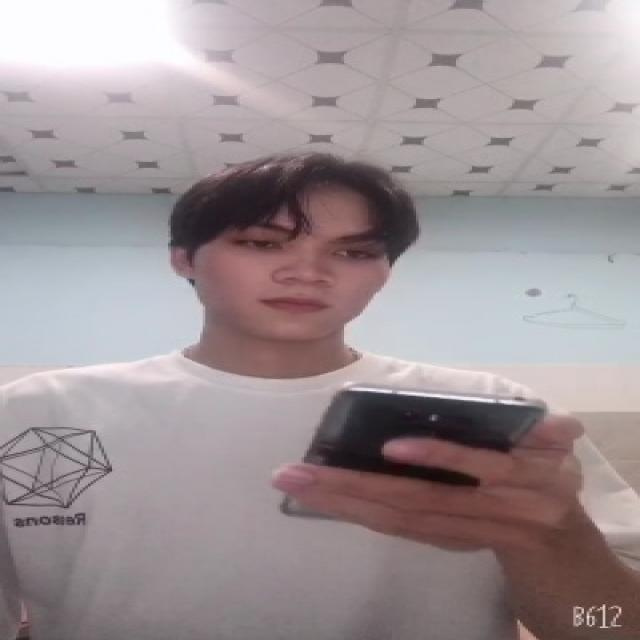Phone: (280, 384, 548, 529)
